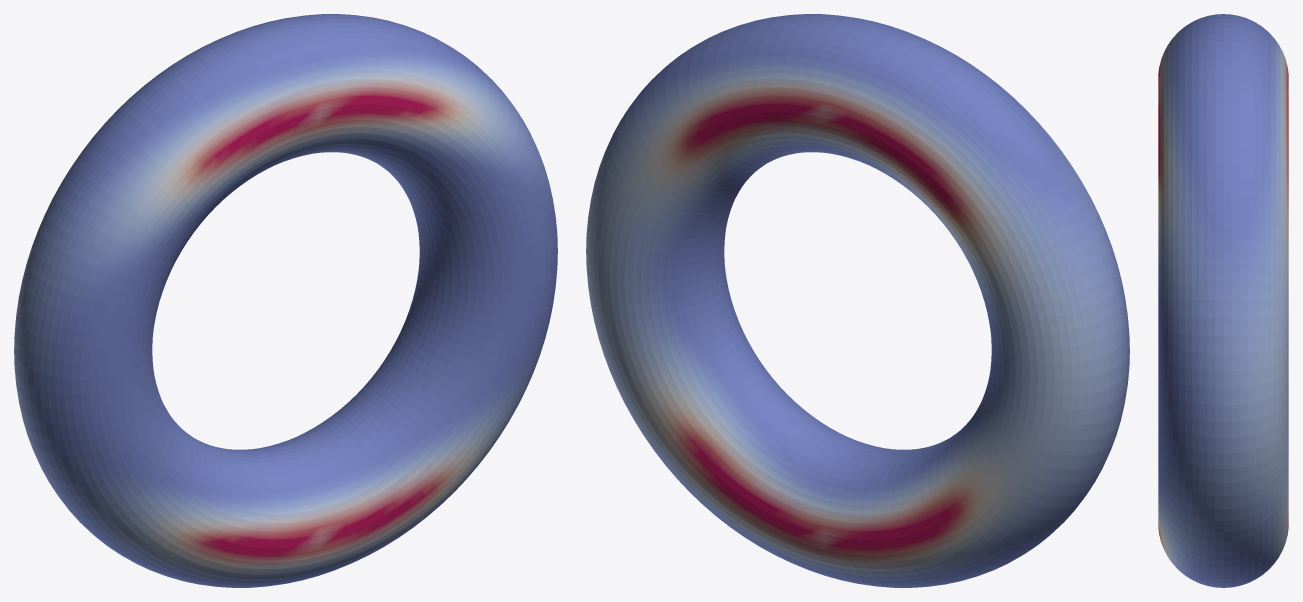
3 renders of one model, left to right at view 1: azimuth 30°, elevation 25°; view 2: azimuth 150°, elevation 25°; view 3: azimuth 270°, elevation 25°, orthographic. The views are drawn at different scales.
Visible parts, largest first — view 1: world; view 2: world; view 3: world.
Part boxes in pixels (box(x1,y1,x2,y2)): world: box(14, 14, 557, 587); world: box(586, 14, 1129, 587); world: box(1158, 14, 1288, 587).
Bounding box in the file's own units: 18.13 × 18.13 × 4.13.
